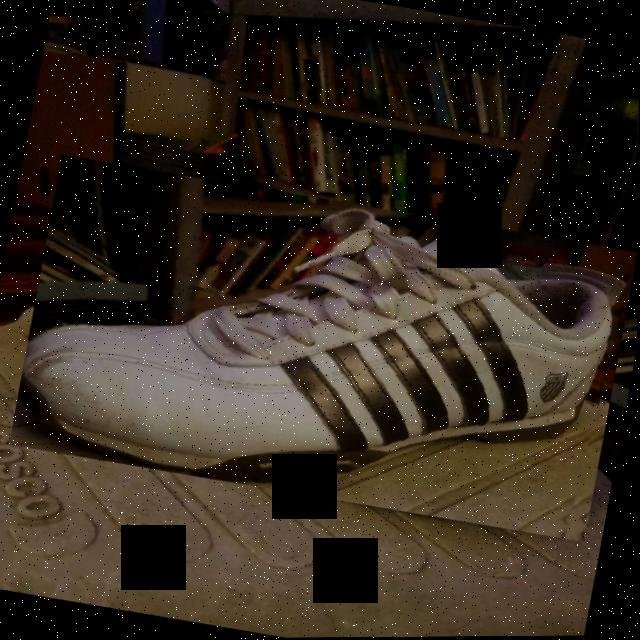shoe: (9, 151, 638, 546)
